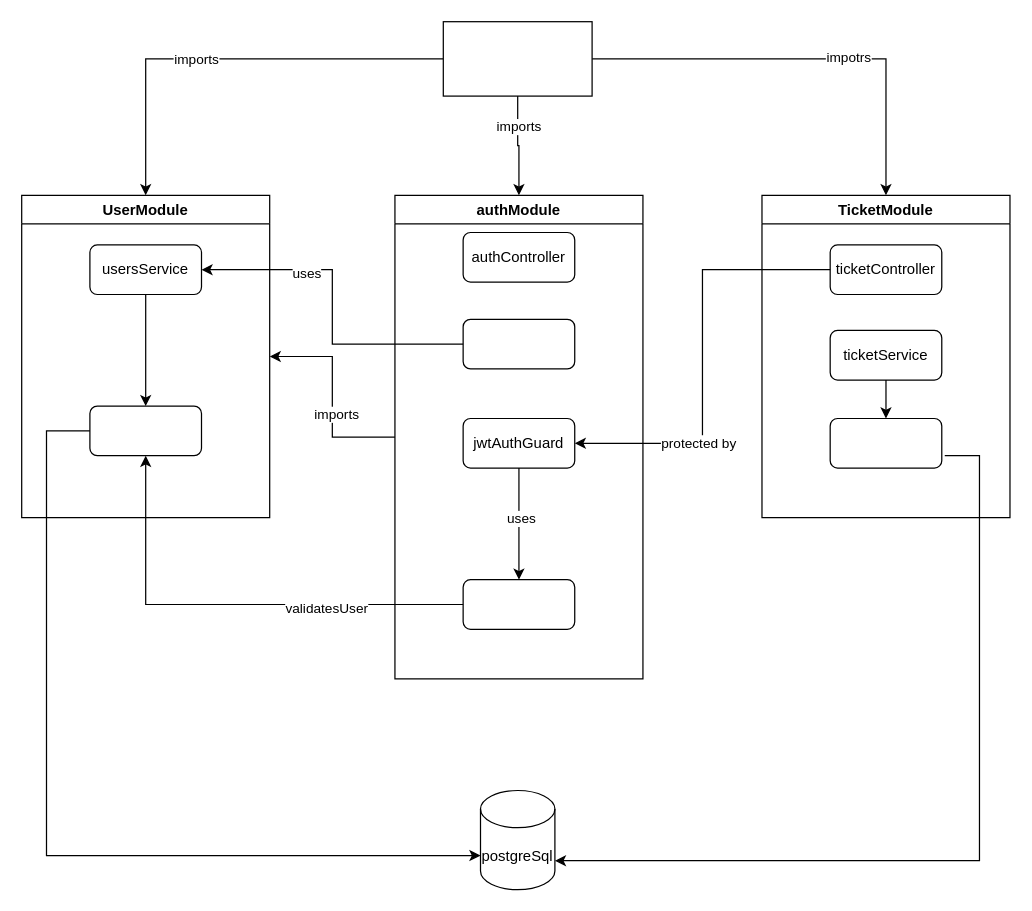
This 1032x911 diagram has some shape labels left out. Each missing label, with the centre of its shape:
"AppModule" goes at (x=517, y=58).
"authService" goes at (x=518, y=343).
"jwtStrategy" goes at (x=518, y=603).
"ticketEntity" goes at (x=885, y=442).
"userEntity" goes at (x=145, y=430).
